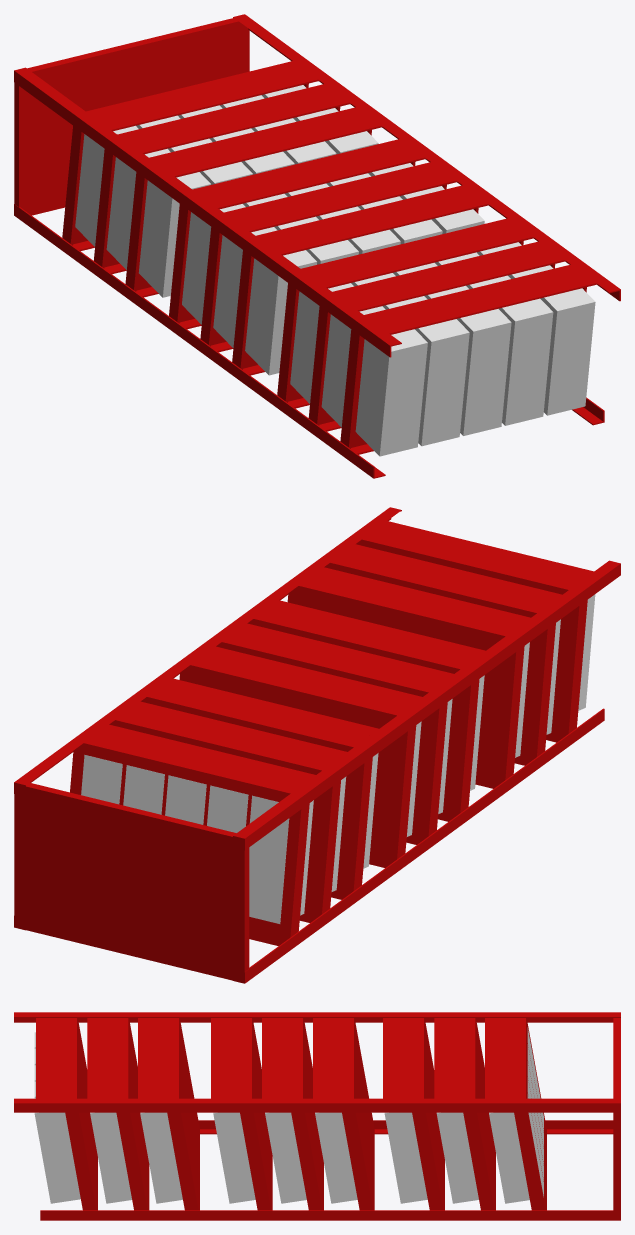
Rendered from orsy2.glb.
The picture shows the model from 3 angles, top to bottom: view 1: azimuth 30°, elevation 25°; view 2: azimuth 150°, elevation 25°; view 3: azimuth 270°, elevation 25°; orthographic projection. The views are drawn at different scales.
Parts seen in each view (by area): view 1: Struttura.004, Cube.049, Cube.045, Cube.048, Cube.046, Cube.047, Cube.029, Cube.010, Cube.020, Cube.040, Cube.009, Cube (+10 smaller); view 2: Struttura.004, Cube, Cube.004, Cube.002, Cube.003, Cube.001, Cube.049, Cube.010, Cube.030, Cube.019; view 3: Struttura.004, Cube.045, Cube.004, Cube.014, Cube.034, Cube.015, Cube.025, Cube.005, Cube.044, Cube.024.
Part boxes in pixels (left/top/right/bottom): Struttura.004: left=14, top=14, right=620, bottom=478; Cube.049: left=355, top=329, right=427, bottom=456; Cube.045: left=540, top=288, right=595, bottom=415; Cube.048: left=415, top=319, right=469, bottom=446; Cube.046: left=457, top=309, right=511, bottom=435; Cube.047: left=498, top=298, right=553, bottom=425; Cube.029: left=245, top=250, right=316, bottom=375; Cube.010: left=138, top=172, right=210, bottom=297; Cube.020: left=213, top=227, right=277, bottom=347; Cube.040: left=321, top=306, right=385, bottom=427; Cube.009: left=106, top=148, right=170, bottom=269; Cube: left=75, top=125, right=138, bottom=246; Struttura.004: left=14, top=507, right=620, bottom=983; Cube: left=249, top=795, right=313, bottom=923; Cube.004: left=81, top=755, right=122, bottom=804; Cube.002: left=123, top=765, right=164, bottom=814; Cube.003: left=165, top=775, right=206, bottom=824; Cube.001: left=207, top=785, right=248, bottom=832; Cube.049: left=578, top=594, right=595, bottom=710; Cube.010: left=363, top=753, right=378, bottom=868; Cube.030: left=515, top=642, right=529, bottom=757; Cube.019: left=407, top=721, right=421, bottom=836; Struttura.004: left=14, top=1012, right=620, bottom=1220; Cube.045: left=34, top=1098, right=80, bottom=1203; Cube.004: left=489, top=1093, right=543, bottom=1203; Cube.014: left=384, top=1112, right=427, bottom=1203; Cube.034: left=140, top=1112, right=182, bottom=1203; Cube.015: left=315, top=1112, right=357, bottom=1203; Cube.025: left=213, top=1112, right=255, bottom=1203; Cube.005: left=436, top=1112, right=478, bottom=1203; Cube.044: left=90, top=1112, right=131, bottom=1203; Cube.024: left=265, top=1112, right=306, bottom=1203.
Size of the model in its own units: 2.21 by 1.33 by 6.24.
